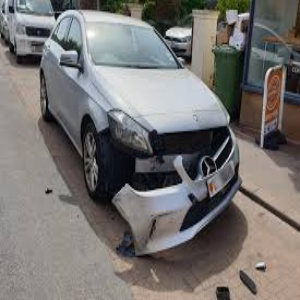bumper: (108, 151, 223, 252)
